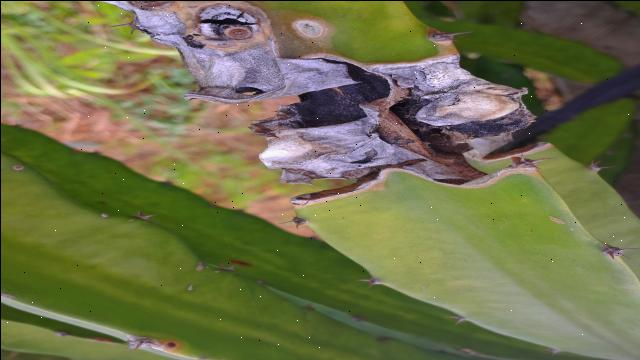stemcanker: (278, 13, 340, 47)
